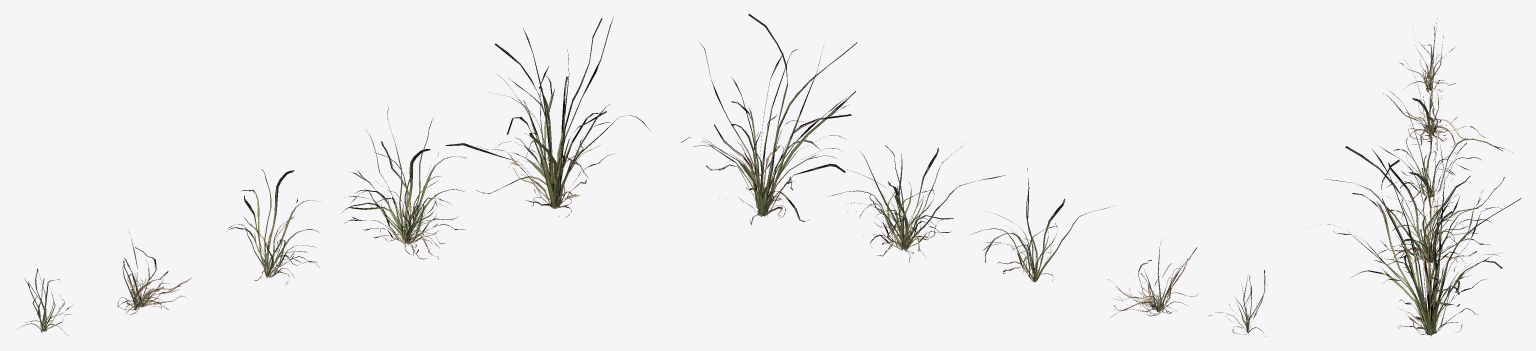
File: grass_medium_02.glb
3 views of the same model, side by side, from view 1: azimuth 30°, elevation 25°; view 2: azimuth 150°, elevation 25°; view 3: azimuth 270°, elevation 25° (orthographic). The views are drawn at different scales.
Parts seen in each view (by area): view 1: grass_medium_02_a; view 2: grass_medium_02_a; view 3: grass_medium_02_a.
Boxes of the visible parts, box(x1,y1,x2,y2) form: grass_medium_02_a: box(17, 17, 649, 335); grass_medium_02_a: box(681, 14, 1265, 334); grass_medium_02_a: box(1324, 19, 1521, 336).
Size of the model in its own units: 1.31 by 0.4053 by 0.4326.
1 material, 1 textured.
